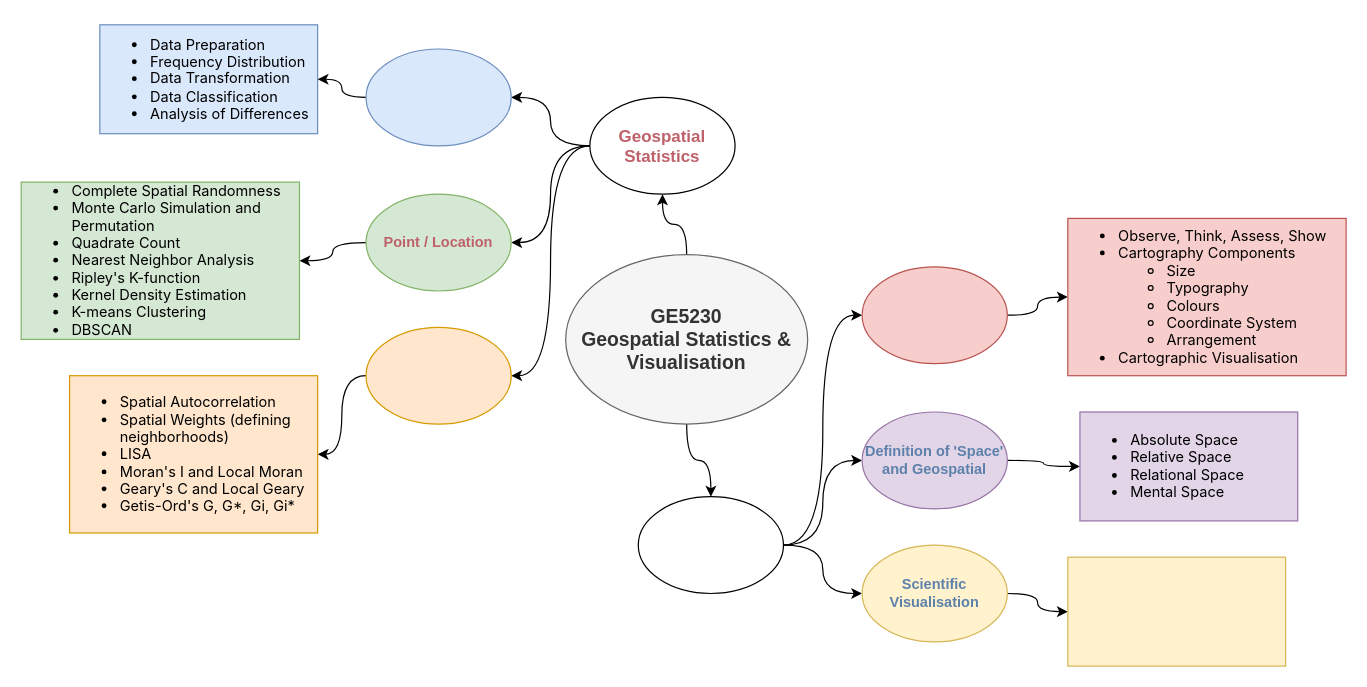
The diagram is 1367 pixels wide and 687 high, and some of its shapes have lost their labels. Each missing label, with the centre of its shape:
Areal / Spatial Attributes: the point at 438,375
General Things: the point at 934,315
Geospatial Visualisation: the point at 710,544
Spatial Database Storytelling Visual Hierarchy Ethics in Spatial Data: the point at 1176,611
Statistics / Attributes: the point at 438,97
